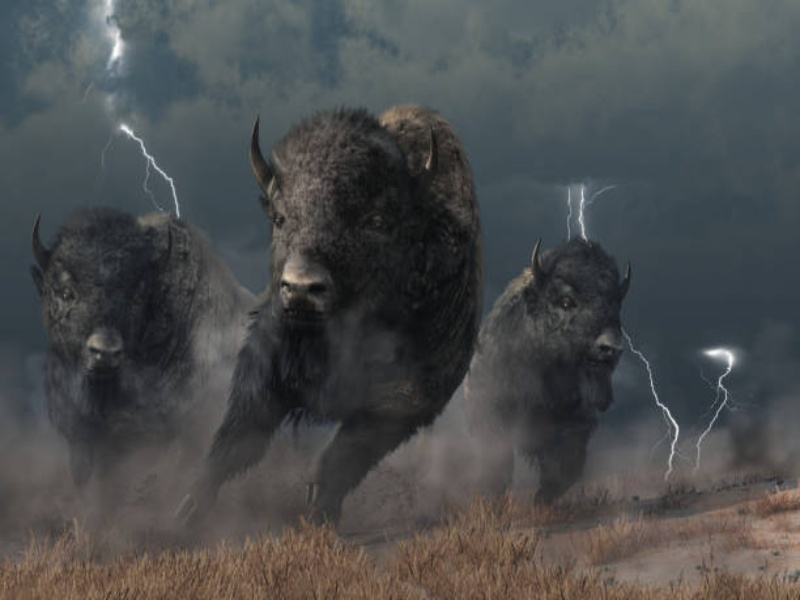buffalo: (215, 104, 494, 543)
